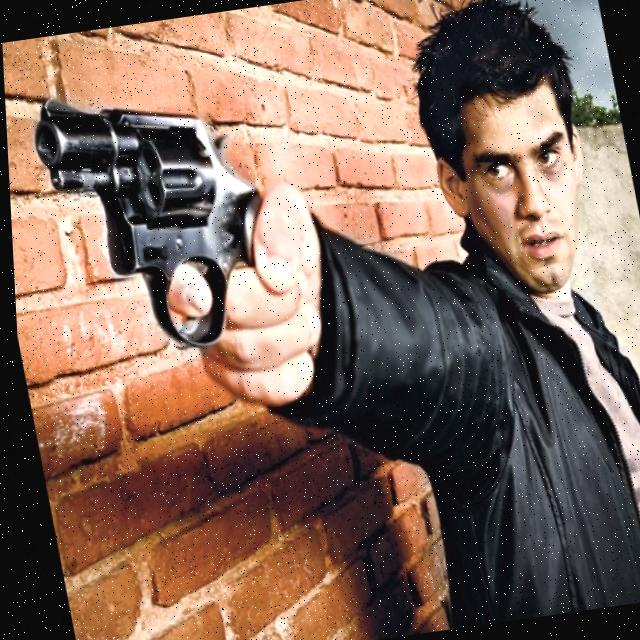pistol: (23, 70, 281, 364)
